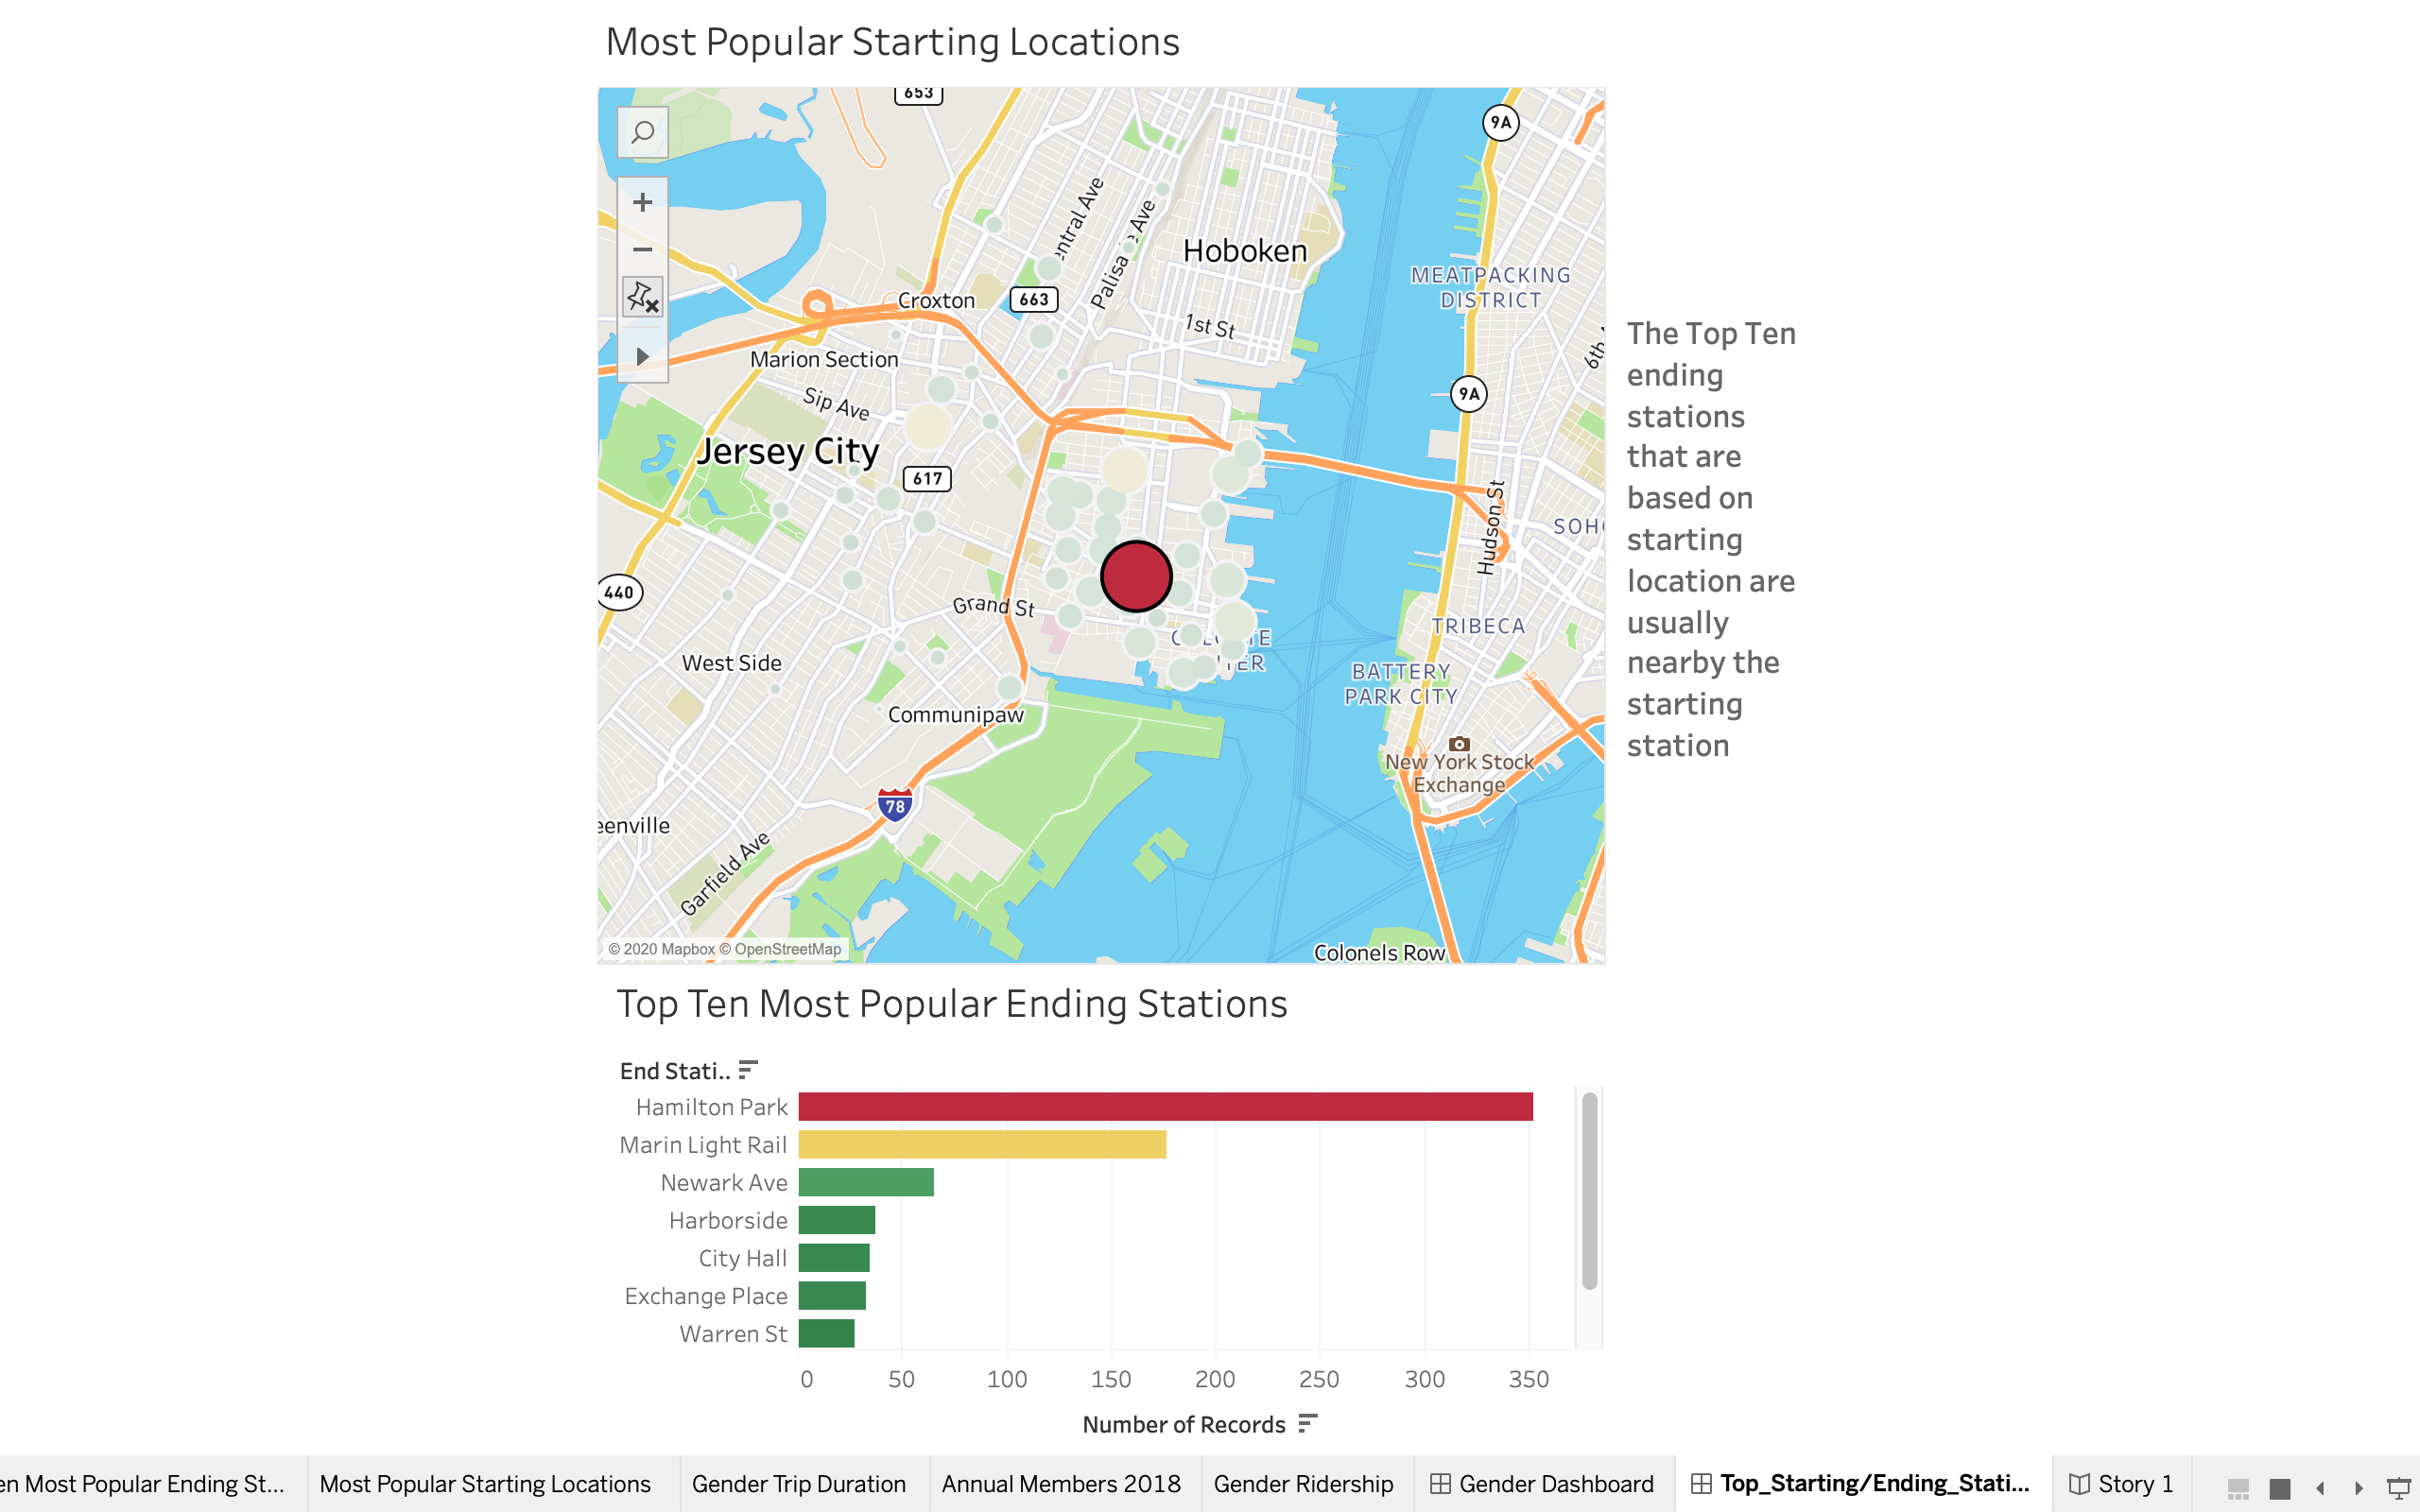

The page's visual inventory and layout, read from the dashboard file:
{"tool":"tableau","page":{"name":"Top_Starting/Ending_Stations","canvas":[650,860],"ordinal":1},"visuals":[{"type":"worksheet","title":"Most Popular Starting Locations","mark":"Automatic","rows":["start station latitude"],"cols":["start station longitude"],"box":[1,2.9,646,567.6]},{"type":"worksheet","title":"Top Ten Most Popular Ending Stations","mark":"Automatic","rows":["end station name"],"cols":["Calculation_878272360831246337"],"box":[7,571.9,641,286.7]}]}

Visuals, with their boxes on the page's 650x860 design canvas (x1, y1, x2, y2). These are canvas units, not pixel positions in the 2420x1512 screenshot, which may show the page scaled, cropped or inside an application window:
"Most Popular Starting Locations" worksheet: locate(1, 3, 647, 570)
"Top Ten Most Popular Ending Stations" worksheet: locate(7, 572, 648, 859)
